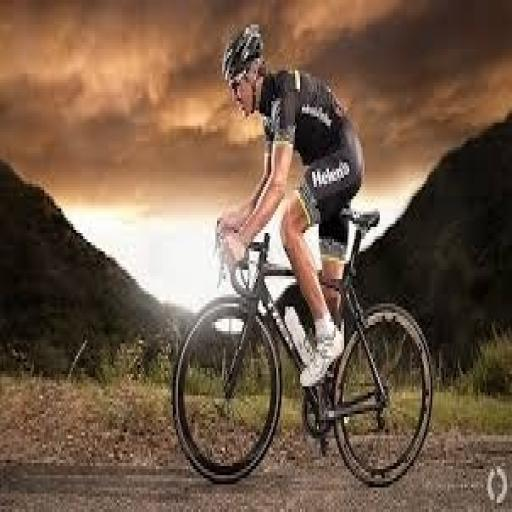cycling: (214, 22, 368, 392)
